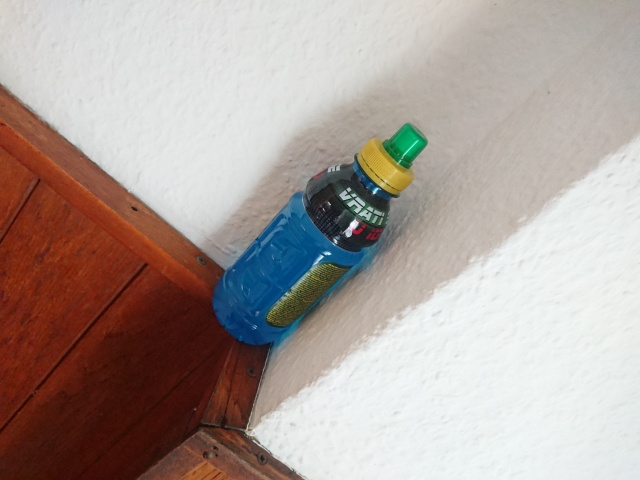Vindi Iso Sport Forest Strawberries 500mL: (208, 120, 431, 348)
